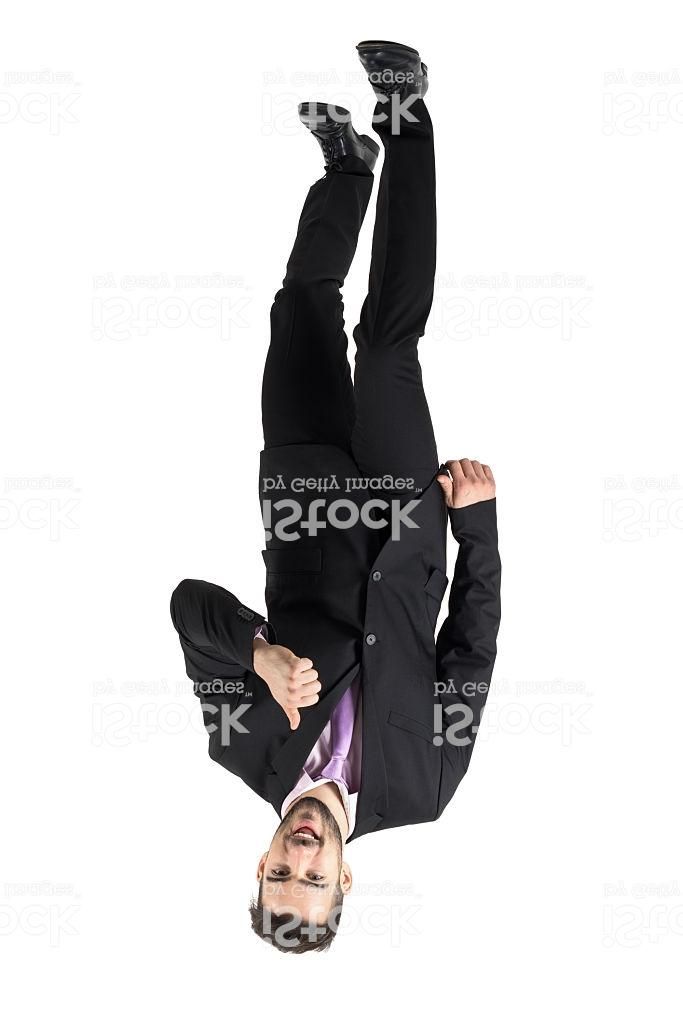thumbsdown: (264, 647, 323, 732)
